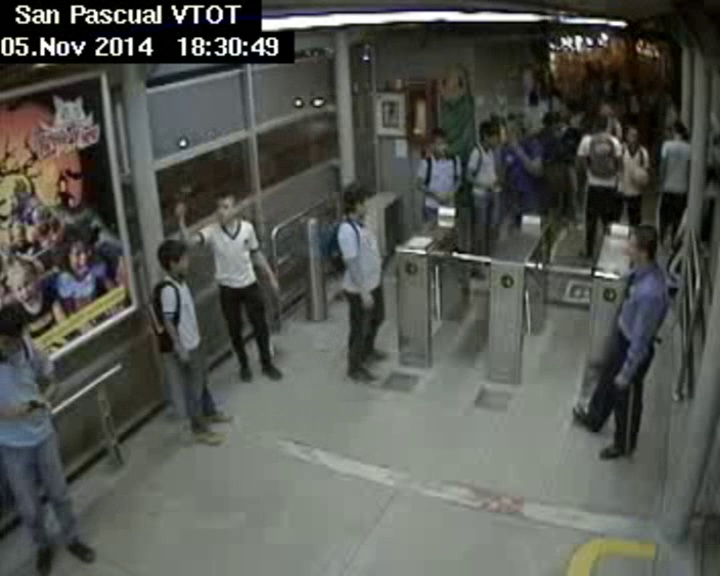person: (1, 301, 40, 354), (617, 225, 662, 268), (153, 238, 191, 279), (343, 179, 381, 220), (209, 191, 246, 223), (473, 113, 503, 152), (424, 127, 452, 164), (589, 105, 613, 133), (668, 119, 689, 141), (622, 121, 640, 146), (511, 119, 530, 136), (540, 113, 556, 127), (528, 89, 540, 104)
